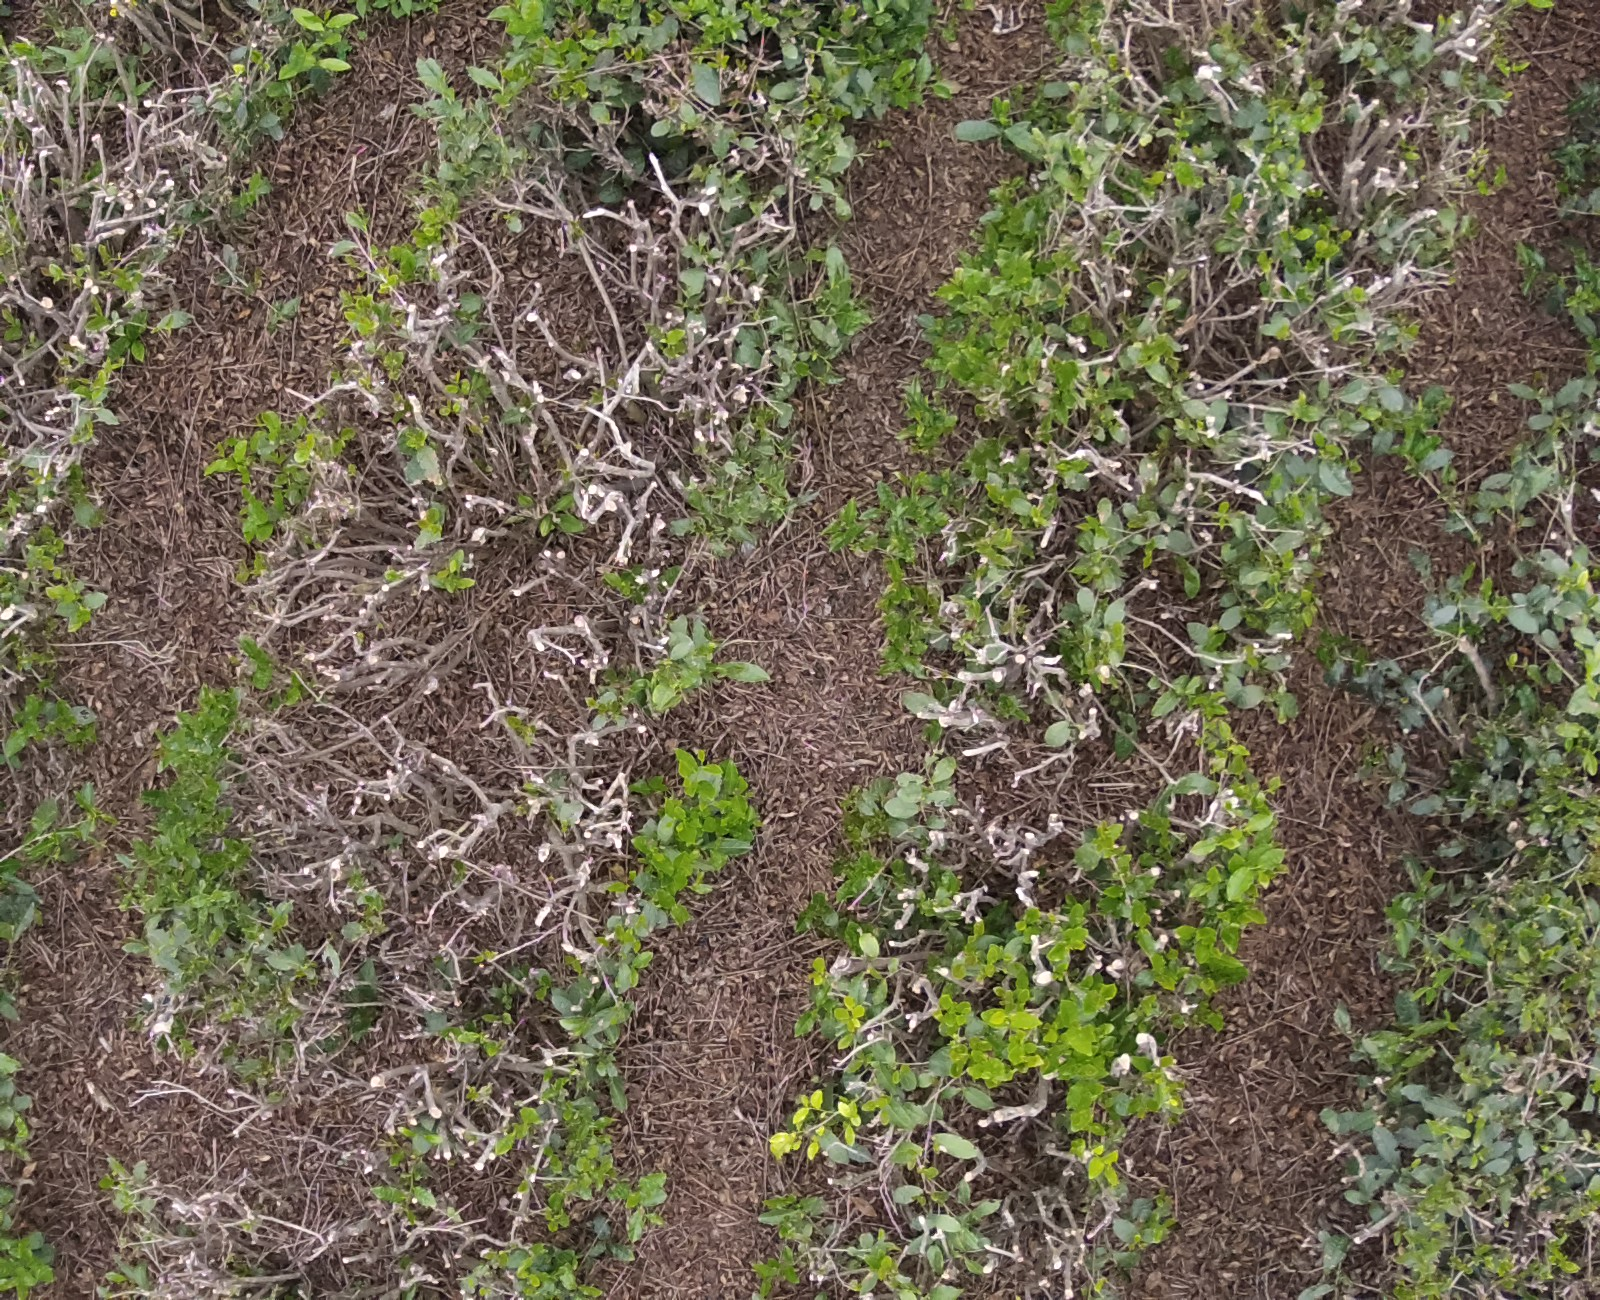new: (492, 1133, 516, 1155), (1104, 1165, 1120, 1187), (666, 328, 686, 345), (769, 1142, 789, 1159), (464, 1086, 483, 1104), (520, 1106, 539, 1124), (1089, 1158, 1102, 1181), (293, 447, 310, 464), (92, 370, 107, 389), (793, 1106, 809, 1125), (606, 879, 628, 893), (418, 210, 436, 224), (422, 1132, 444, 1143), (837, 1100, 850, 1120), (1221, 837, 1240, 850), (811, 1089, 823, 1110), (844, 1125, 854, 1149), (813, 956, 827, 975), (459, 1031, 479, 1043), (517, 1258, 533, 1272), (576, 1157, 590, 1173), (990, 1011, 1006, 1025), (704, 763, 723, 775), (357, 321, 371, 336), (397, 1126, 414, 1138), (807, 1142, 819, 1159), (344, 312, 362, 322), (460, 378, 471, 397), (769, 1132, 788, 1142), (383, 568, 398, 581), (1104, 1150, 1118, 1163), (230, 62, 245, 74), (304, 432, 316, 448), (852, 1004, 865, 1017), (844, 995, 854, 1011), (1095, 1277, 1105, 1293), (528, 1275, 541, 1287), (586, 1145, 598, 1158), (521, 781, 537, 791), (422, 227, 435, 237), (472, 954, 486, 964), (850, 1113, 861, 1126), (892, 1071, 900, 1088), (364, 321, 379, 329), (486, 950, 498, 960), (517, 1181, 528, 1193), (633, 938, 641, 954), (452, 370, 462, 383), (448, 558, 456, 573), (515, 1271, 529, 1279), (387, 275, 398, 285), (419, 519, 430, 529), (370, 244, 379, 256), (446, 383, 458, 393), (436, 569, 448, 578), (438, 407, 451, 415), (452, 403, 462, 414), (792, 1139, 801, 1150), (1095, 1143, 1104, 1154), (697, 749, 704, 761), (407, 438, 417, 447), (815, 975, 823, 986), (675, 822, 683, 832), (852, 1017, 860, 1027), (1169, 1097, 1177, 1106), (379, 283, 389, 288), (659, 337, 666, 344)
